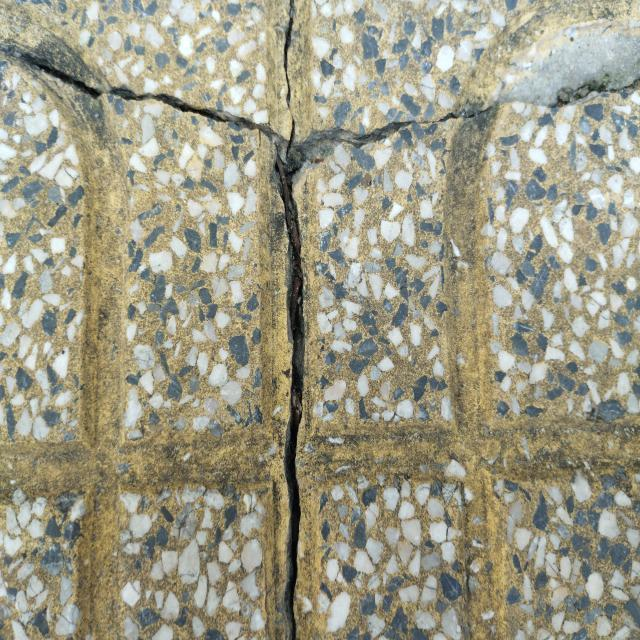branched cracks: (0, 0, 639, 639)
